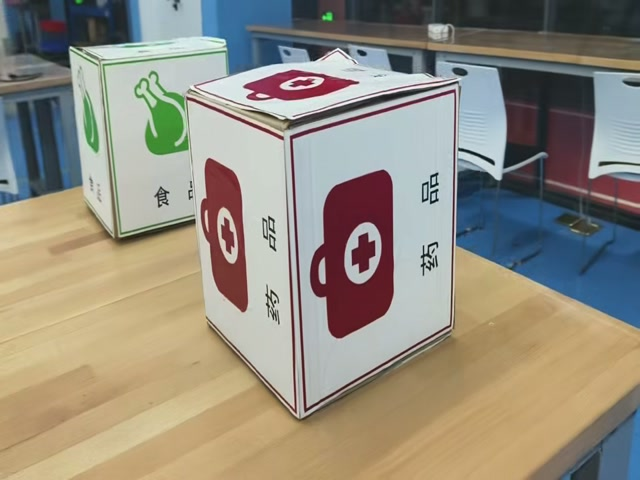Cube_food: (72, 39, 224, 67)
Cube_medicine: (180, 53, 453, 133)
